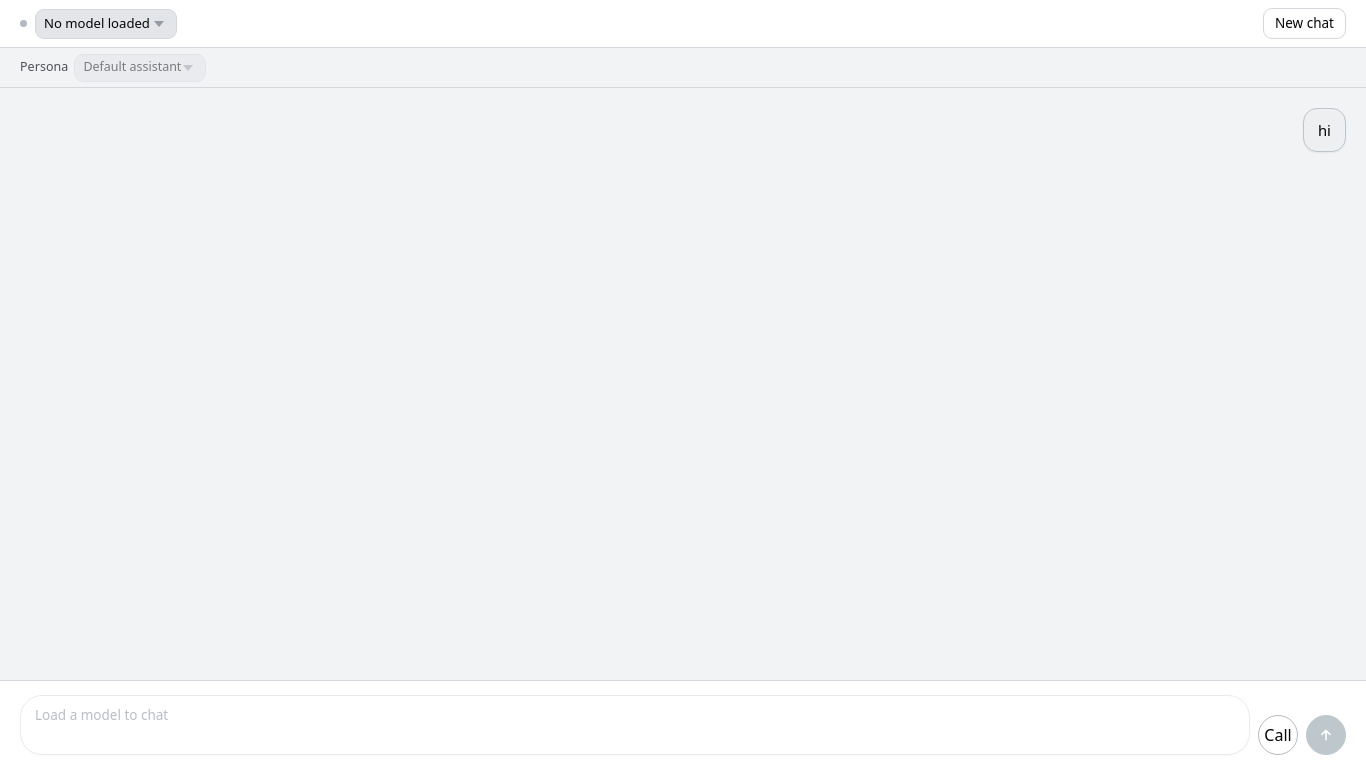
Scenario: ChatVoice › "New chat" starts a fresh conversation and unlocks the persona picker
The image size is (1366, 768).
Check: the dropdown labelled "Persona" is disabled, box [74, 54, 206, 82]
Click the button "New chat".
click(1304, 24)  # box [1263, 8, 1346, 39]
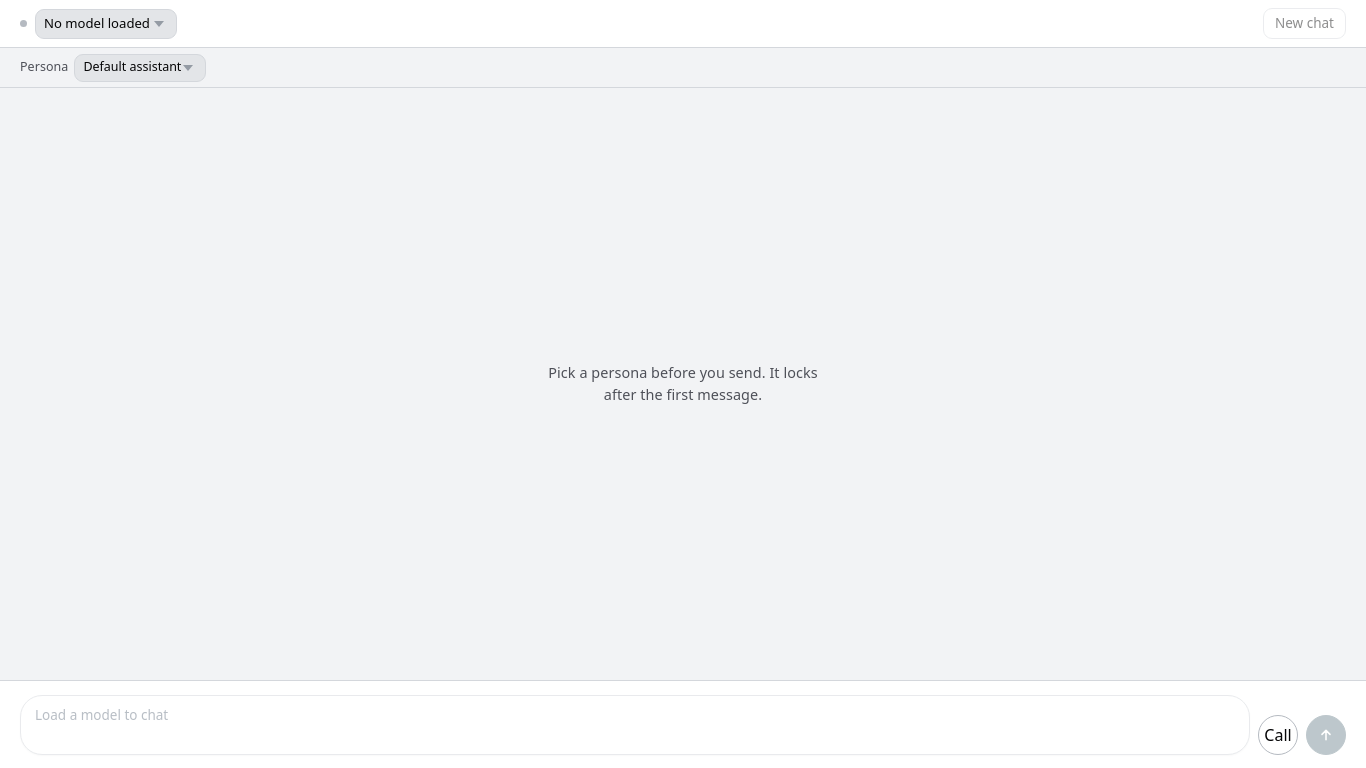
Check: the dropdown labelled "Persona" is enabled, box [74, 54, 206, 82]
